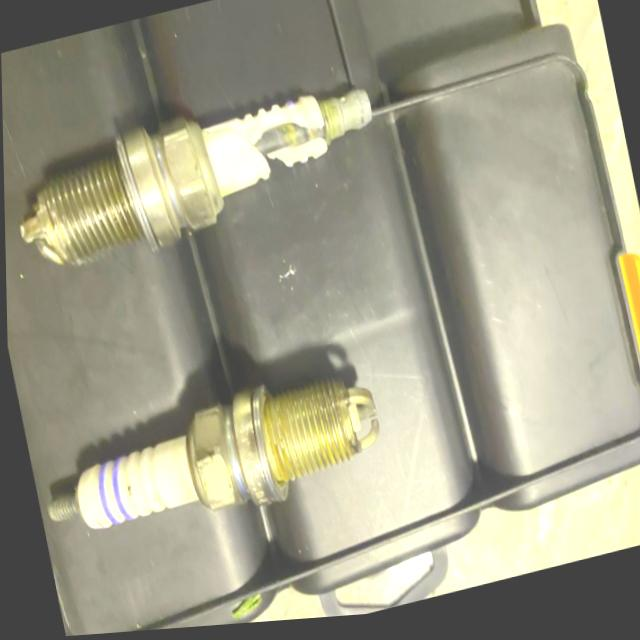damaged_spark-plug: (2, 67, 401, 300)
spark-plug: (18, 323, 412, 587)
